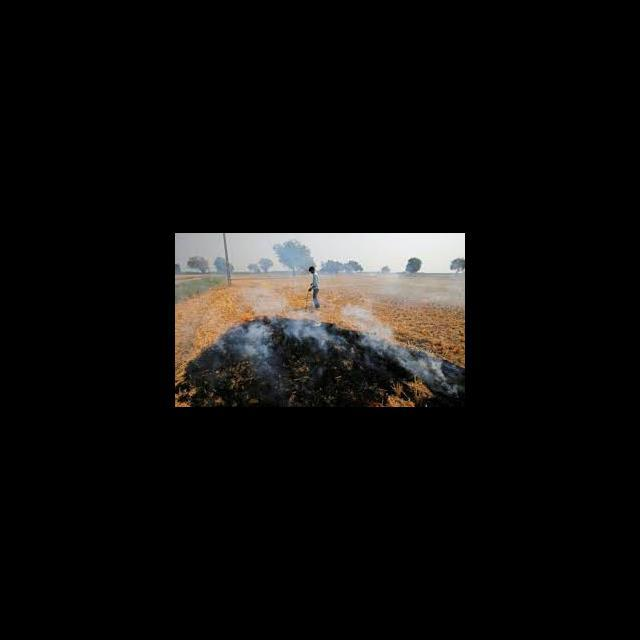Smoke: (342, 304, 453, 384), (236, 291, 342, 358), (378, 270, 464, 307), (248, 358, 284, 392), (212, 324, 236, 356)
